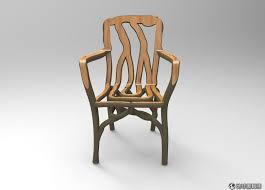chair: (71, 8, 186, 177)
